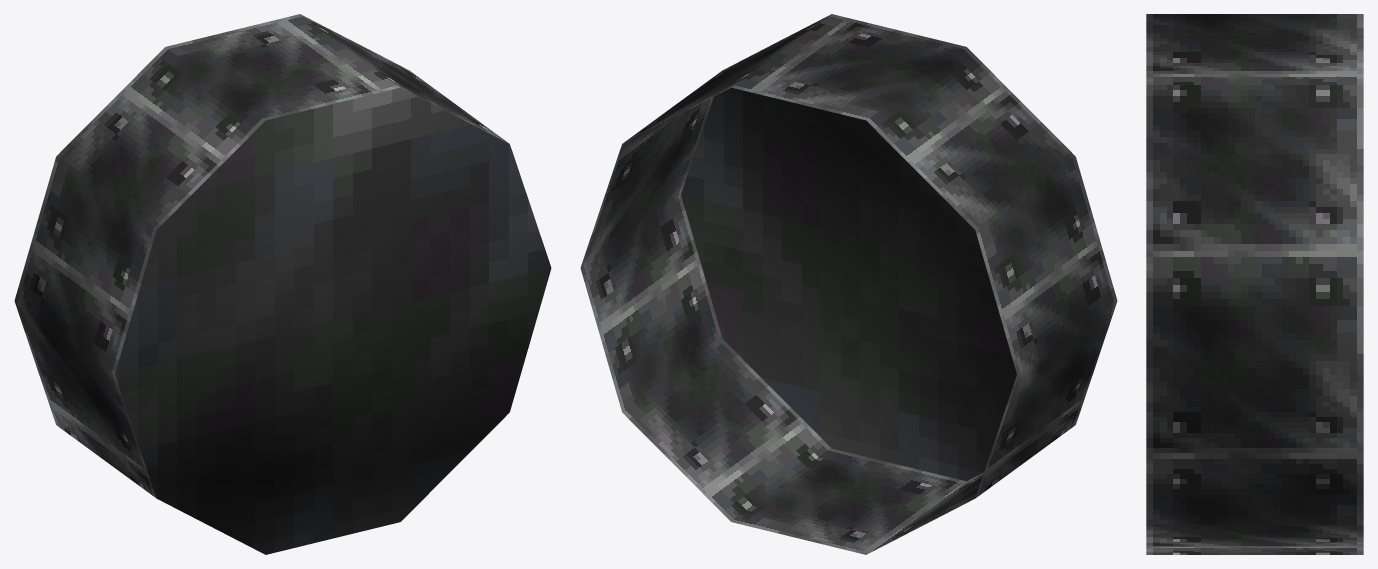
File: HTOWN01_MILLWHEELMOUNT01.fbx
The picture shows the model from 3 angles, left to right: view 1: azimuth 30°, elevation 25°; view 2: azimuth 150°, elevation 25°; view 3: azimuth 270°, elevation 25°; orthographic projection. The views are drawn at different scales.
Visible parts, largest first — view 1: HTOWN01_MILLWHEELMOUNT01; view 2: HTOWN01_MILLWHEELMOUNT01; view 3: HTOWN01_MILLWHEELMOUNT01.
Part boxes in pixels (x1,y1,x2,y2): HTOWN01_MILLWHEELMOUNT01: (14, 14, 551, 554); HTOWN01_MILLWHEELMOUNT01: (580, 14, 1117, 554); HTOWN01_MILLWHEELMOUNT01: (1146, 14, 1363, 554).
Bounding box in the file's own units: 8929 × 8492 × 3560.
1 material, 1 textured.
